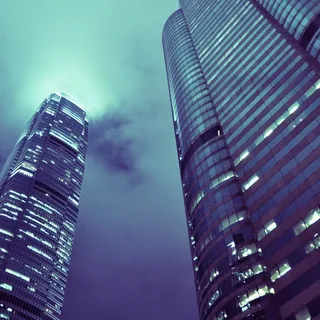high_rise_building: (153, 2, 314, 300), (12, 76, 89, 303)
